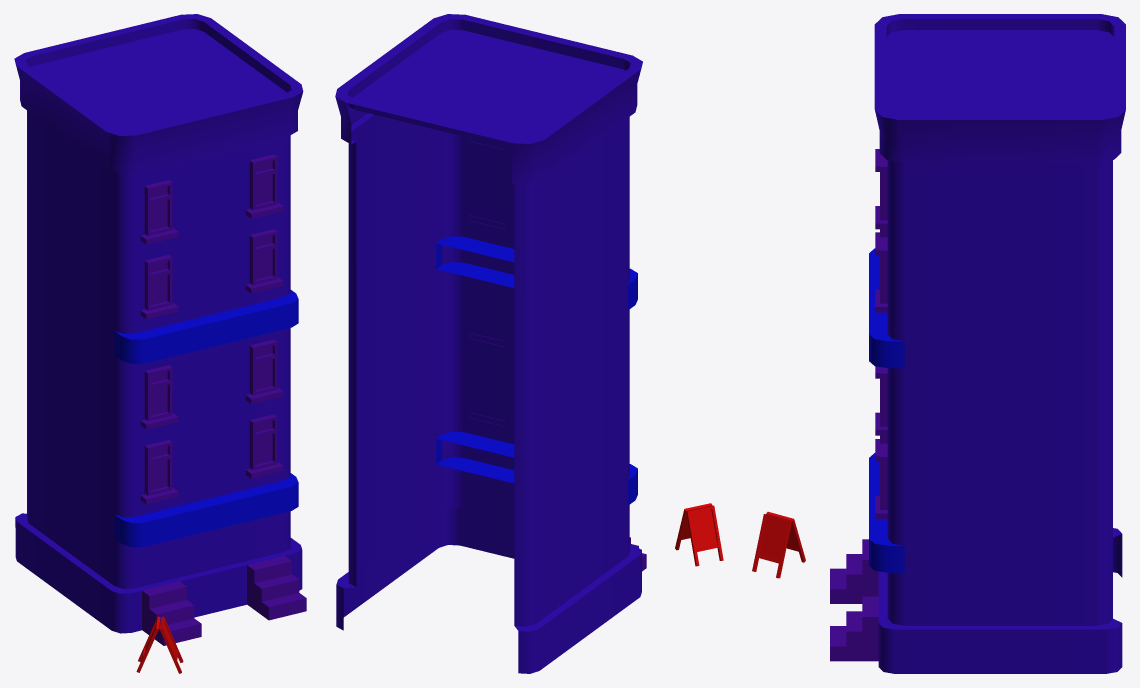
Rendered from house.fbx.
3 renders of one model, left to right at view 1: azimuth 30°, elevation 25°; view 2: azimuth 150°, elevation 25°; view 3: azimuth 270°, elevation 25°, orthographic. The views are drawn at different scales.
Parts seen in each view (by area): view 1: Cube; view 2: Cube; view 3: Cube.
Boxes of the visible parts, left/top/right/bottom form: Cube: left=14, top=14, right=306, bottom=673; Cube: left=335, top=14, right=723, bottom=673; Cube: left=752, top=14, right=1125, bottom=673.
Size of the model in its own units: 125 by 272 by 166.
